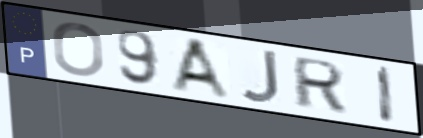9: (115, 30, 163, 87)
A: (168, 36, 236, 103)
I: (376, 63, 397, 127)
J: (237, 49, 282, 106)
O: (51, 21, 107, 78)
R: (292, 54, 348, 114)
